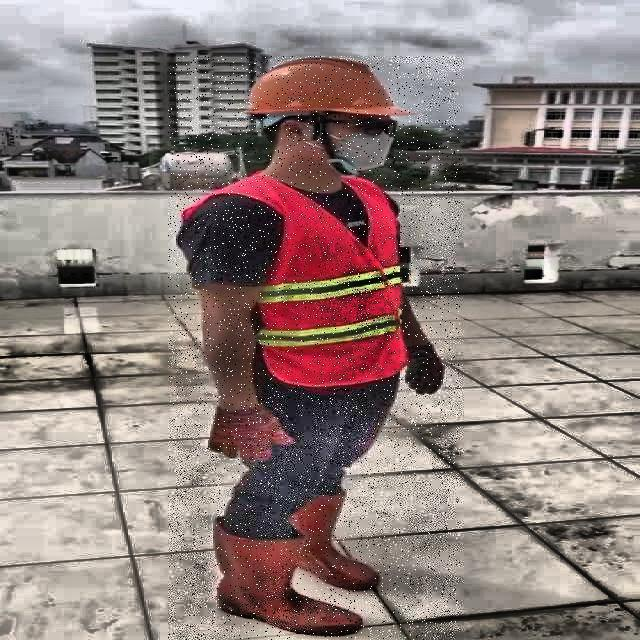safety_helmet: (237, 57, 420, 123)
safety_jacket: (250, 176, 406, 384)
